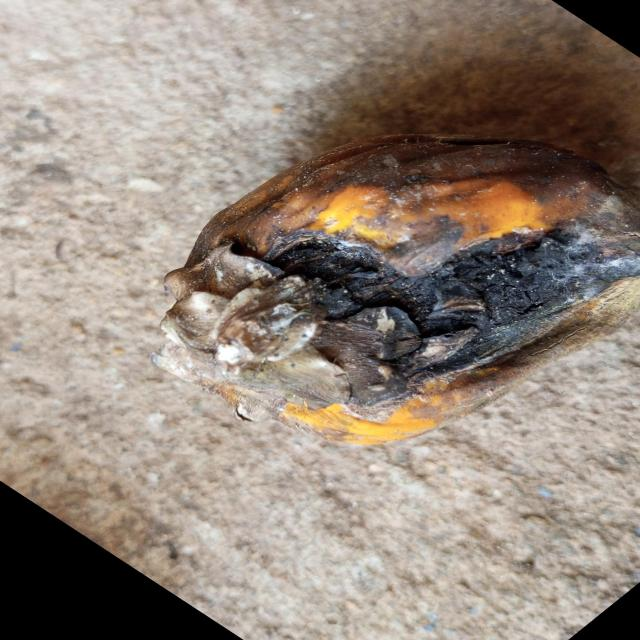damaged: (152, 135, 640, 444)
